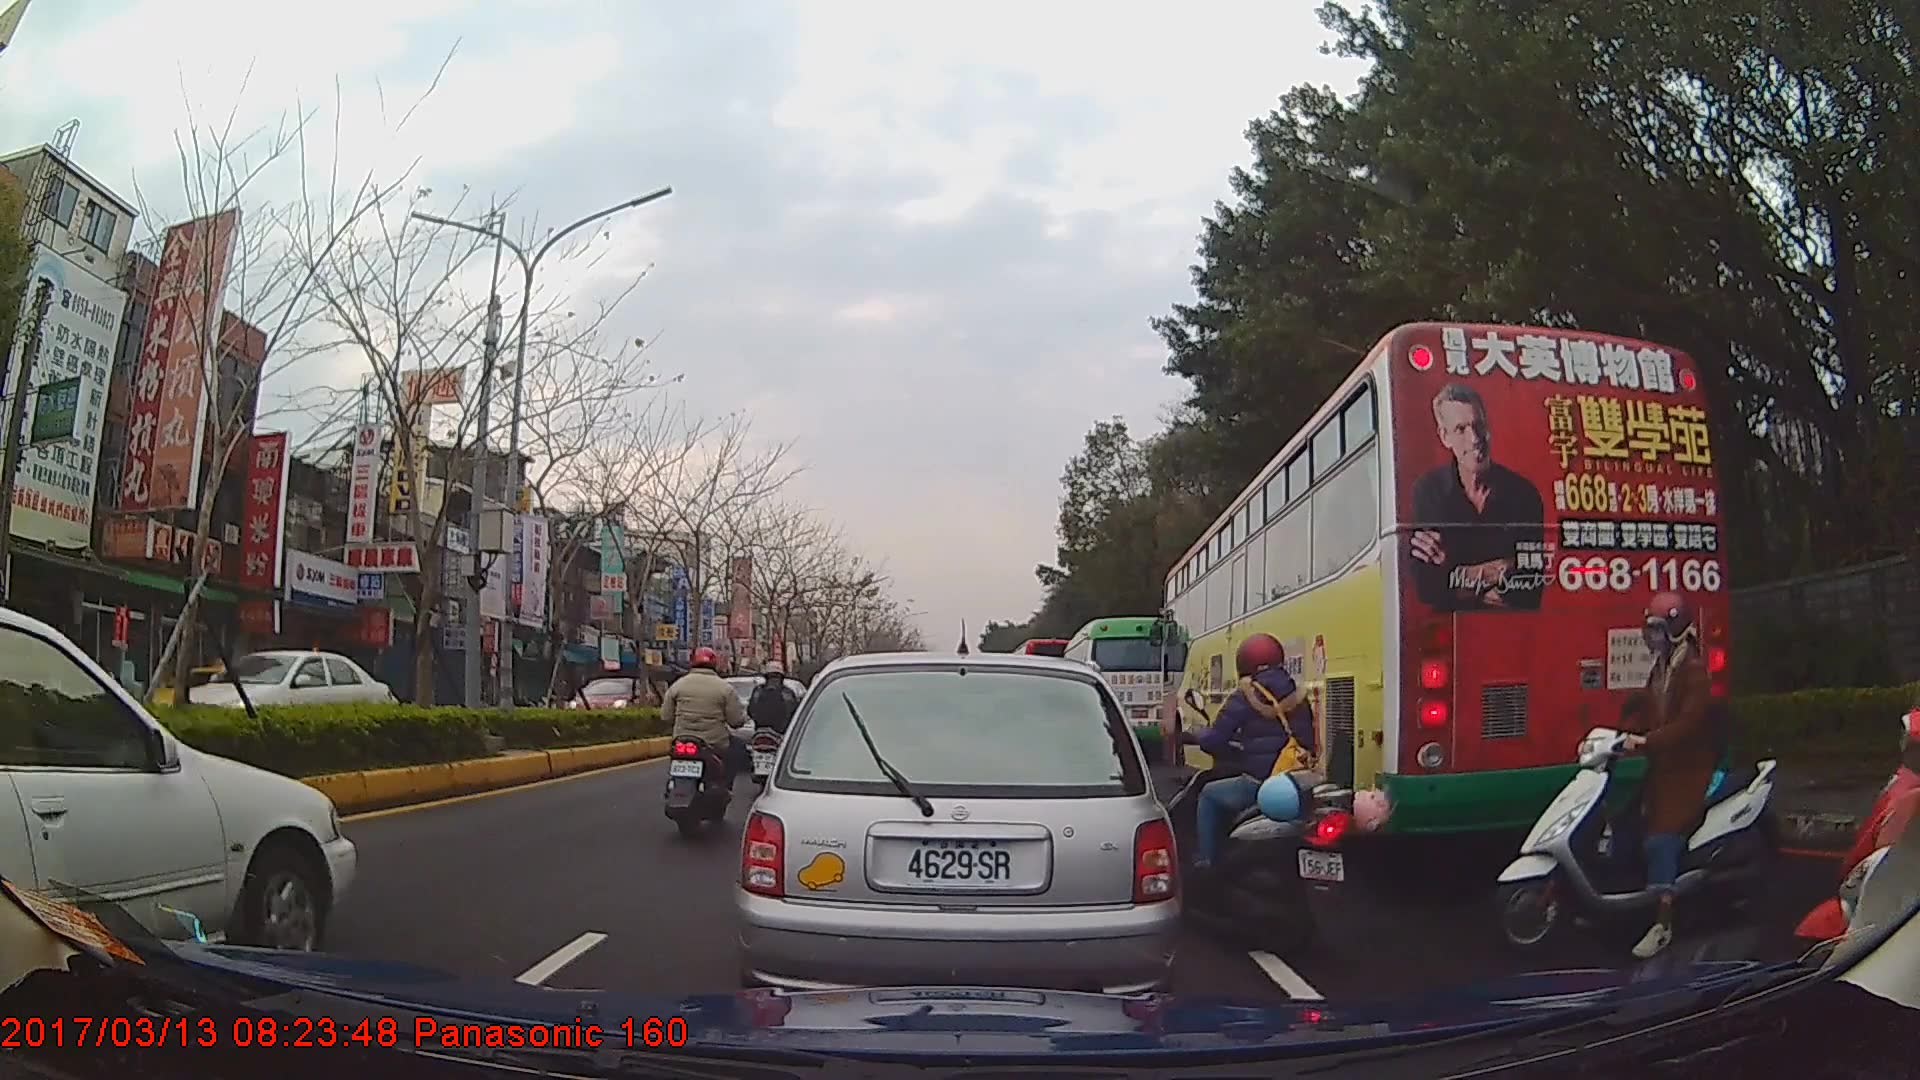rider: (1490, 590, 1776, 957), (1161, 632, 1394, 955), (1796, 541, 1920, 1006), (656, 646, 746, 839), (746, 660, 801, 772)
vehicle: (1159, 319, 1730, 846), (735, 651, 1180, 1005), (0, 607, 355, 965), (178, 644, 392, 742), (1059, 615, 1177, 764), (144, 657, 266, 724), (568, 674, 650, 730)
